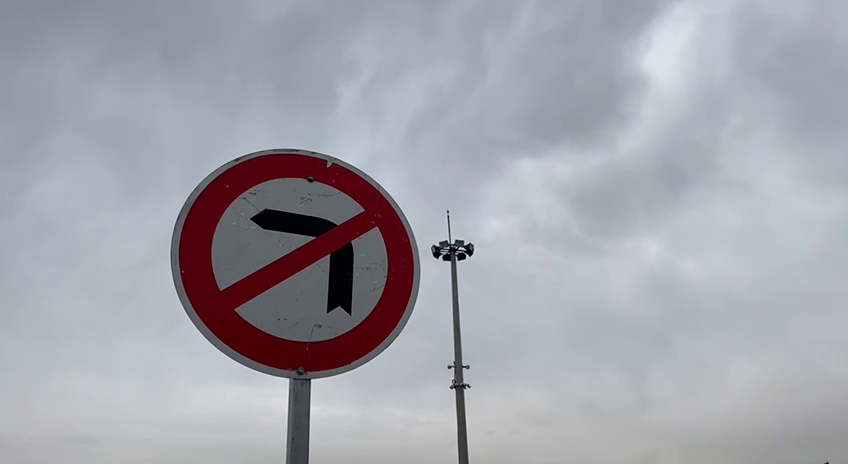noTurnLeft: (158, 143, 426, 389)
